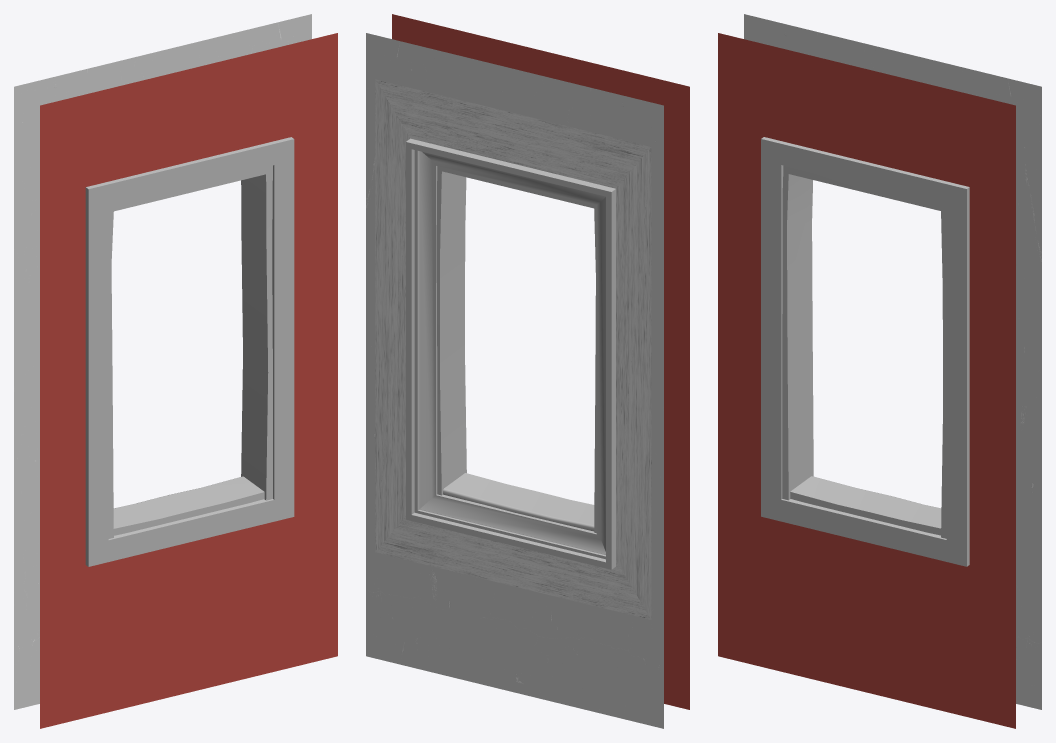
The model's file is SM_BuildingFacade_Window_350x200uu_Frame_01.fbx.
The picture shows the model from 3 angles, left to right: view 1: azimuth 30°, elevation 25°; view 2: azimuth 150°, elevation 25°; view 3: azimuth 330°, elevation 25°; orthographic projection.
Parts seen in each view (by area): view 1: SM_BuildingFacade_Window_350x200uu_Frame; view 2: SM_BuildingFacade_Window_350x200uu_Frame; view 3: SM_BuildingFacade_Window_350x200uu_Frame.
Part boxes in pixels (bbox=[...]): SM_BuildingFacade_Window_350x200uu_Frame: bbox=[14, 14, 337, 728]; SM_BuildingFacade_Window_350x200uu_Frame: bbox=[366, 14, 689, 728]; SM_BuildingFacade_Window_350x200uu_Frame: bbox=[718, 14, 1041, 728].
Size of the model in its own units: 200 by 400 by 41.
